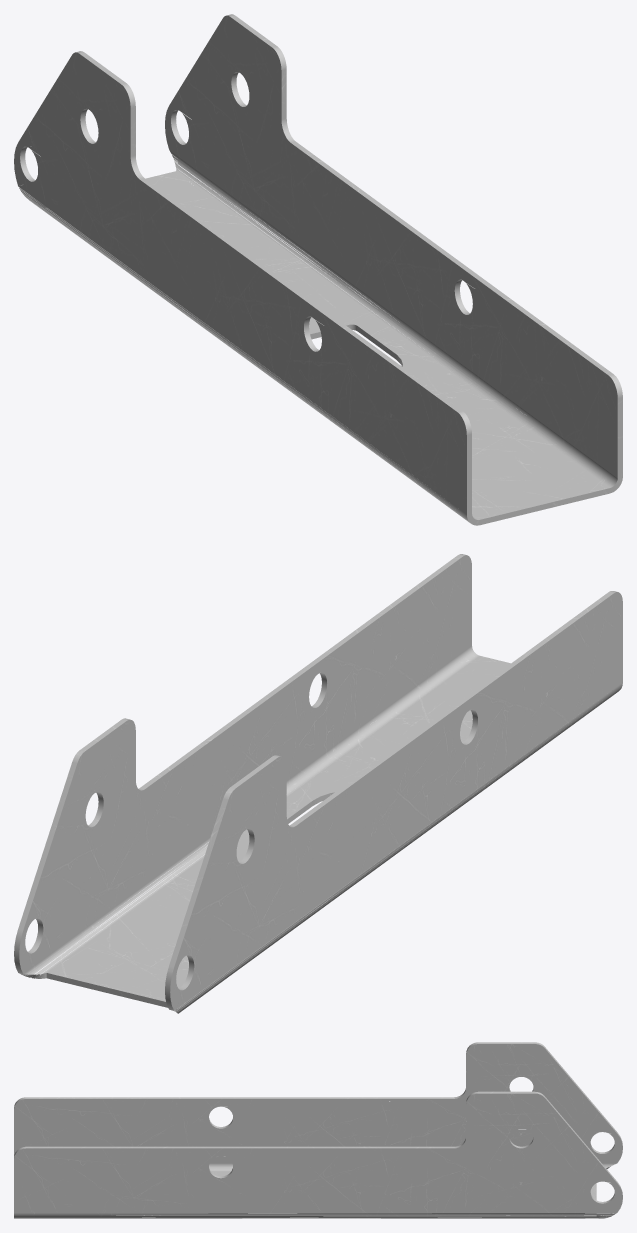
File: HingeWing.glb
The picture shows the model from 3 angles, top to bottom: view 1: azimuth 30°, elevation 25°; view 2: azimuth 150°, elevation 25°; view 3: azimuth 270°, elevation 25°; orthographic projection. The views are drawn at different scales.
Bounding box in the file's own units: 0.0149 × 0.0175 × 0.075.
Materials: 1 (1 with a texture image).
